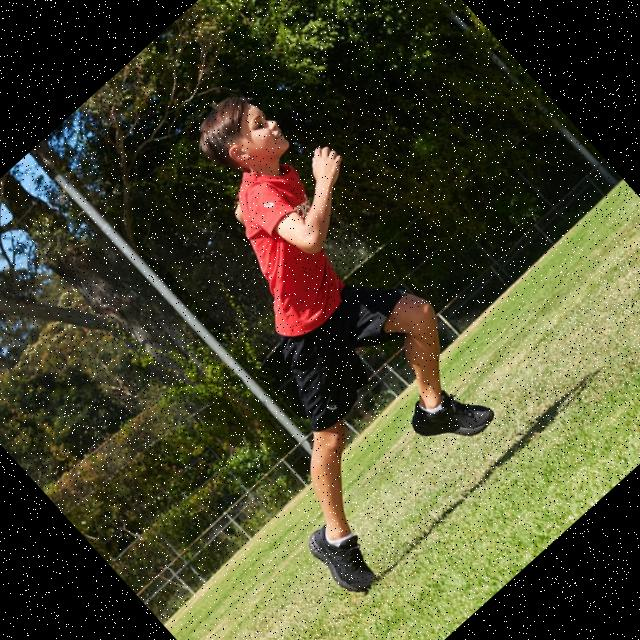Person: (45, 64, 568, 600)
